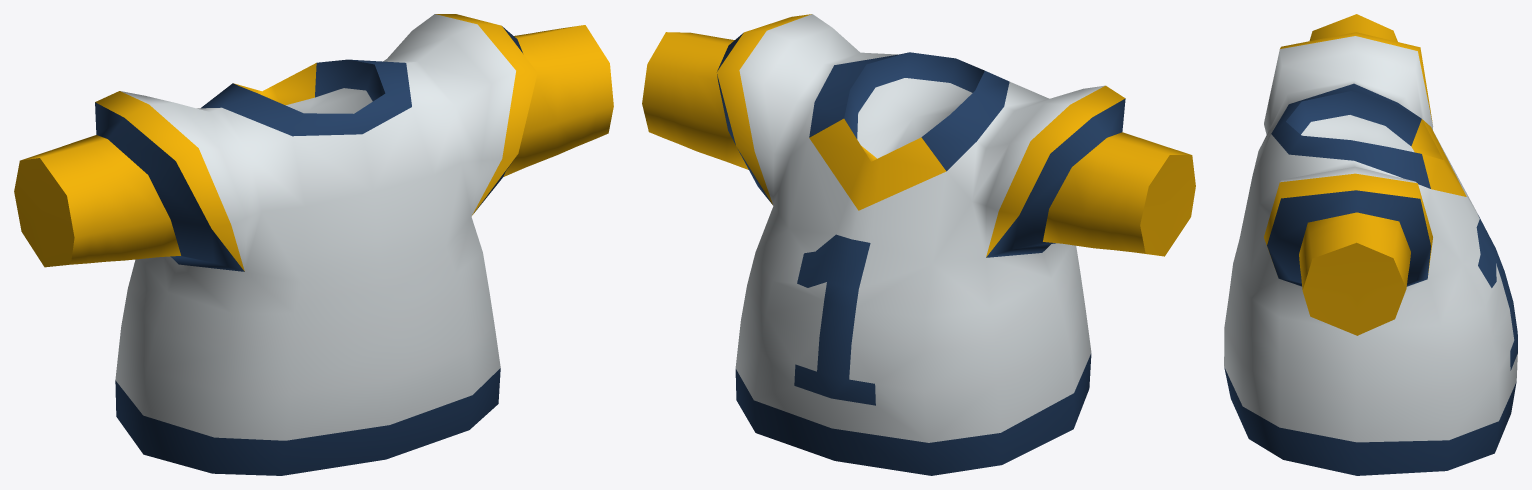
File: Top_34.fbx
3 views of the same model, side by side, from view 1: azimuth 30°, elevation 25°; view 2: azimuth 150°, elevation 25°; view 3: azimuth 270°, elevation 25° (orthographic). The views are drawn at different scales.
Visible parts, largest first — view 1: Top_34; view 2: Top_34; view 3: Top_34.
Boxes of the visible parts, left/top/right/bottom form: Top_34: left=14, top=14, right=613, bottom=475; Top_34: left=642, top=14, right=1195, bottom=475; Top_34: left=1224, top=14, right=1517, bottom=475.
Size of the model in its own units: 69.25 by 43.6 by 37.59.
